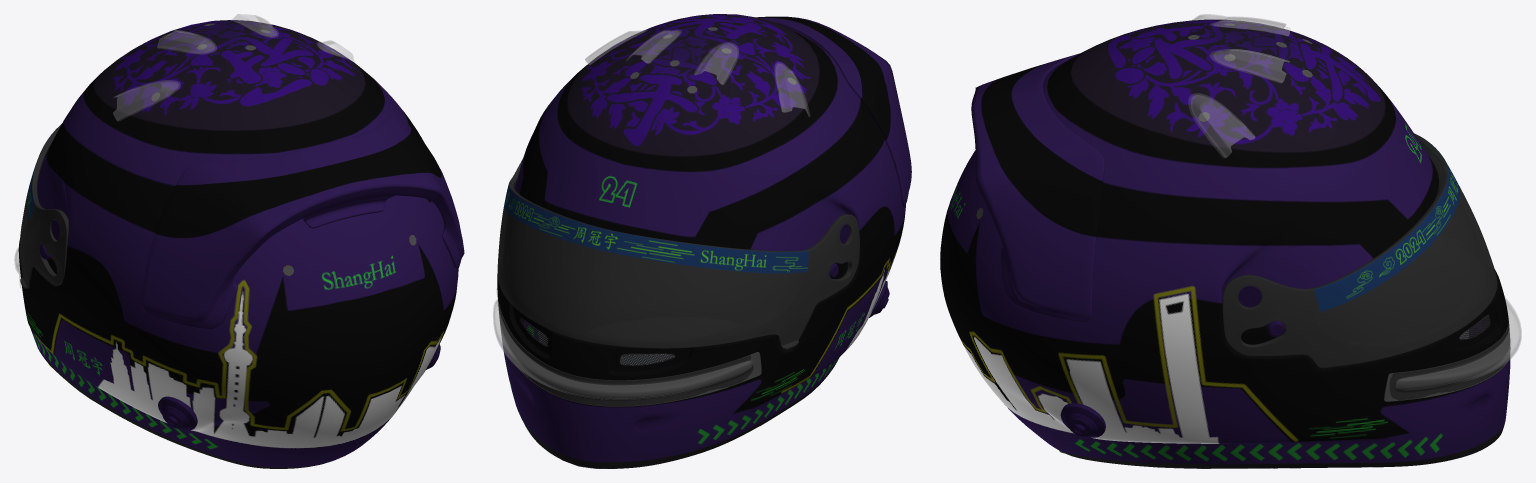
File: f1_helmet_zhouguanyu_24.glb
The picture shows the model from 3 angles, left to right: view 1: azimuth 30°, elevation 25°; view 2: azimuth 150°, elevation 25°; view 3: azimuth 270°, elevation 25°; orthographic projection. The views are drawn at different scales.
Parts seen in each view (by area): view 1: Helmet_main, Helmet_Component, Helmet_glass; view 2: Helmet_main, Helmet_glass, Helmet_Component; view 3: Helmet_main, Helmet_glass, Helmet_Component.
Boxes of the visible parts, x1,y1,x2,y2 form: Helmet_main: [18, 20, 458, 468]; Helmet_Component: [39, 115, 464, 430]; Helmet_glass: [14, 14, 354, 288]; Helmet_main: [497, 14, 905, 468]; Helmet_glass: [493, 30, 859, 406]; Helmet_Component: [520, 16, 911, 365]; Helmet_main: [940, 19, 1510, 468]; Helmet_glass: [1189, 14, 1521, 401]; Helmet_Component: [971, 53, 1490, 437].
Bounding box in the file's own units: 2.11 × 2.16 × 2.87.
Materials: 4 (4 with a texture image).
